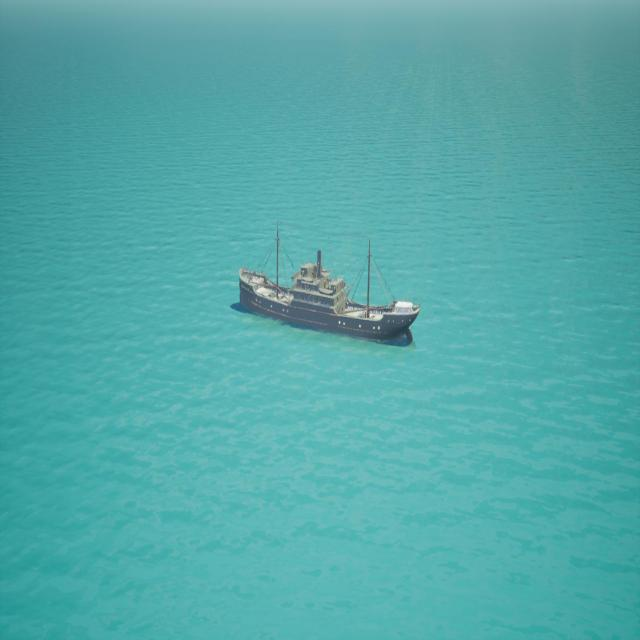fishing ship: (237, 233, 419, 345)
